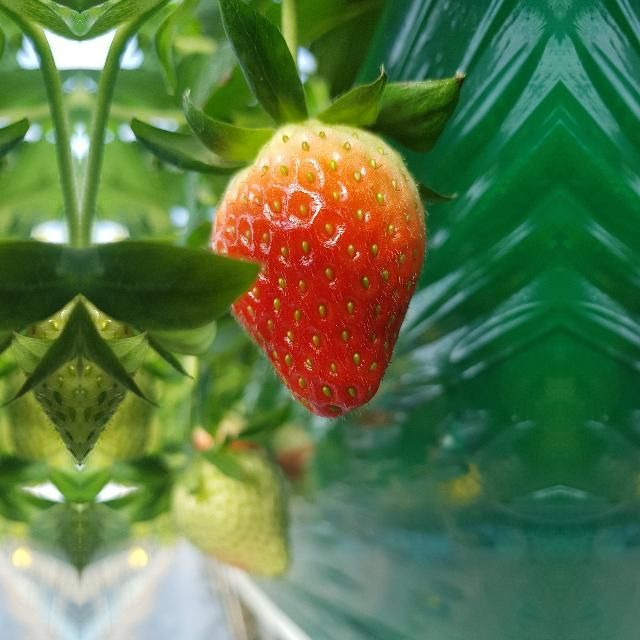Health_100: (208, 119, 428, 419)
